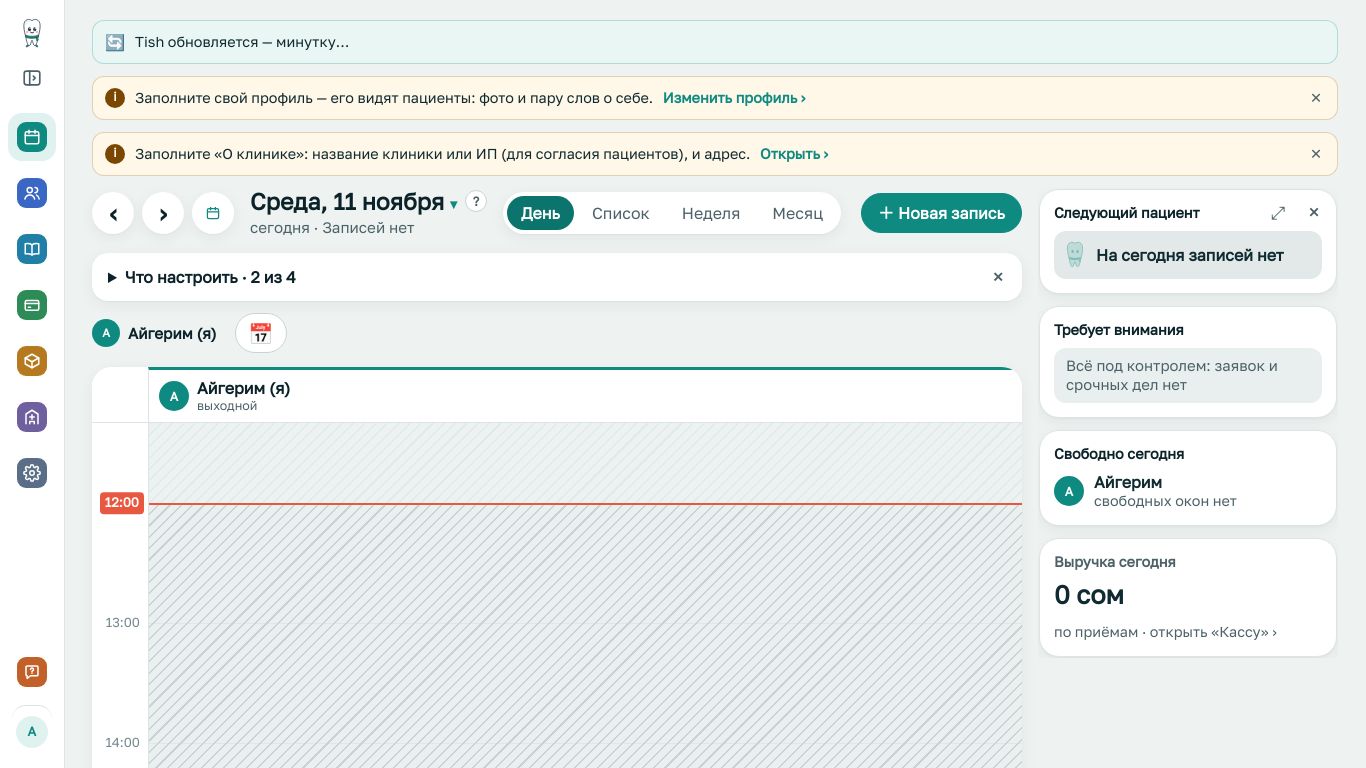
приложение ставили в этом браузере (открыли во вкладке) — «Установите приложение» уже ✓
(page scrolled)
expect the element "Что настроить" shows "Что настроить · 2 из 4": met, box left=92, top=253, right=1022, bottom=301
Click the heading "Что настроить · 2 из 4": [210, 277] box left=125, top=267, right=296, bottom=287
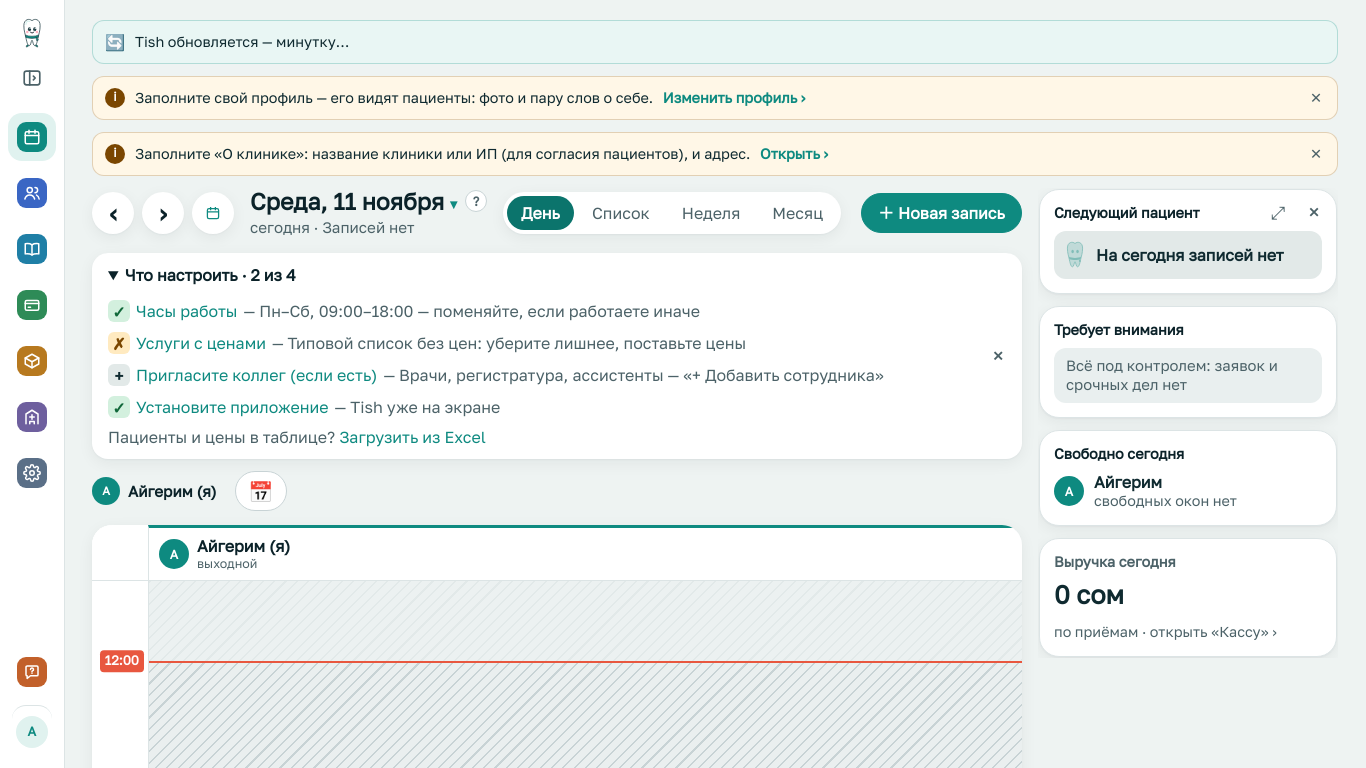
expect the list item "✓ Установите приложение — Tish уже на экране" is shown: met, box left=108, top=395, right=500, bottom=419
